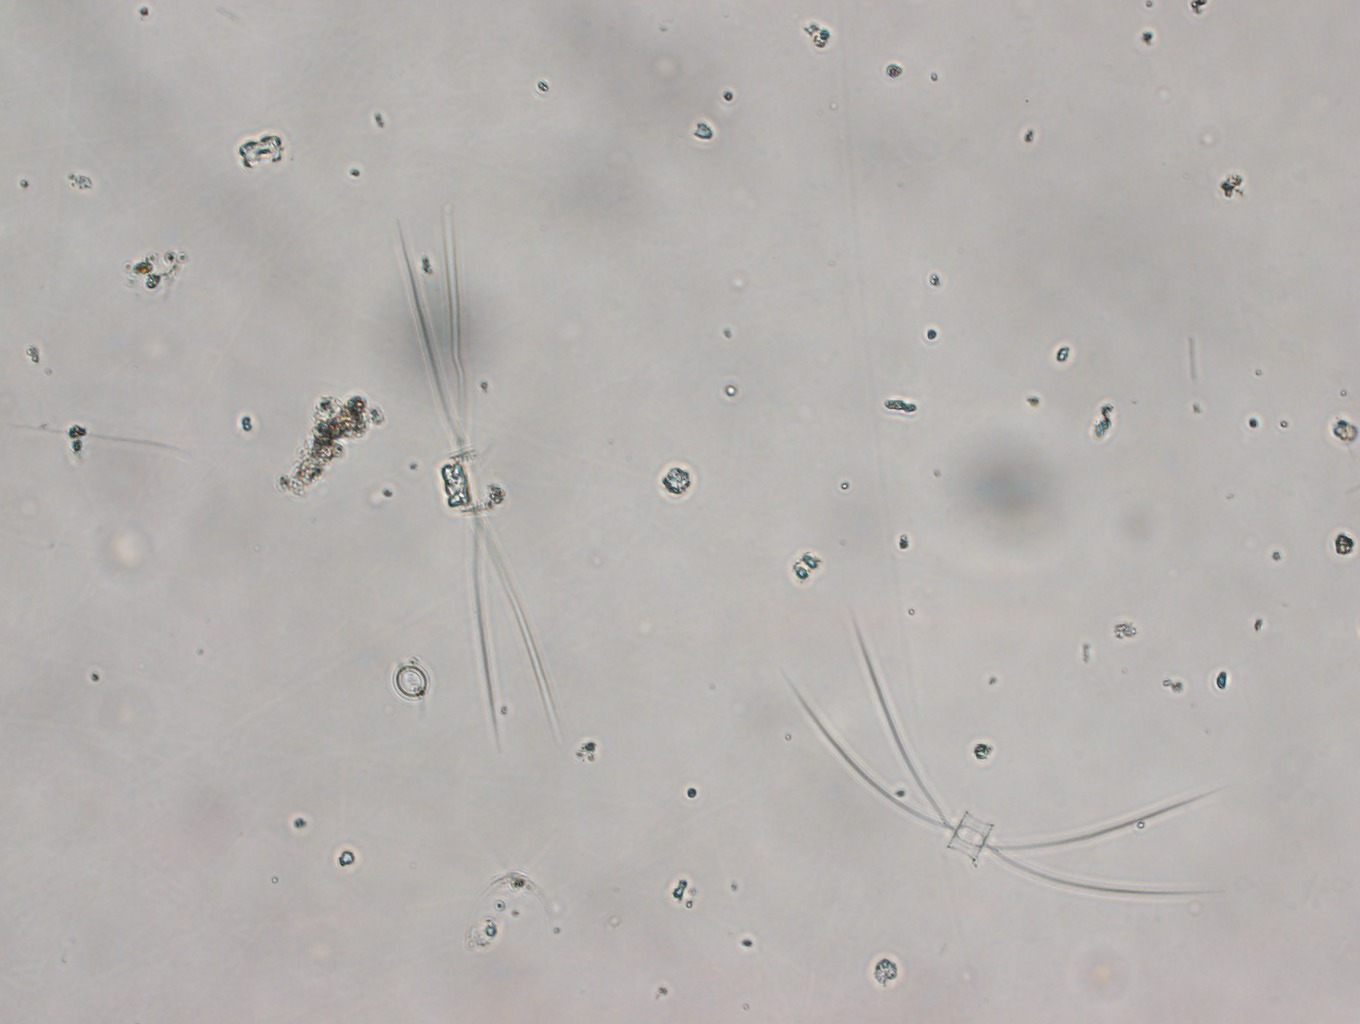chaetoceros: (790, 614, 1230, 901), (396, 207, 566, 755)
